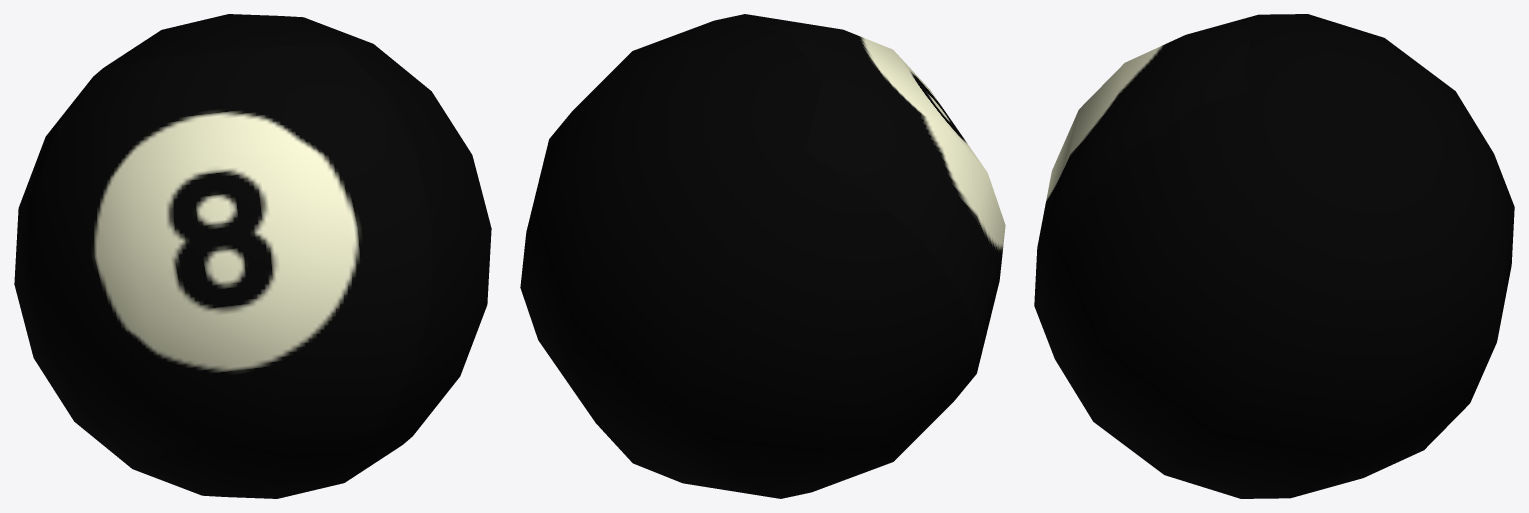
The model's file is Ball8.gltf.
The picture shows the model from 3 angles, left to right: view 1: azimuth 30°, elevation 25°; view 2: azimuth 150°, elevation 25°; view 3: azimuth 270°, elevation 25°; orthographic projection.
Parts seen in each view (by area): view 1: Ball8_Material_#29_0; view 2: Ball8_Material_#29_0; view 3: Ball8_Material_#29_0.
Part boxes in pixels (left/top/right/bottom): Ball8_Material_#29_0: left=14, top=14, right=491, bottom=498; Ball8_Material_#29_0: left=520, top=14, right=1005, bottom=498; Ball8_Material_#29_0: left=1034, top=14, right=1514, bottom=498.
Bounding box in the file's own units: 5.72 × 5.76 × 5.66.
Materials: 1 (1 with a texture image).
